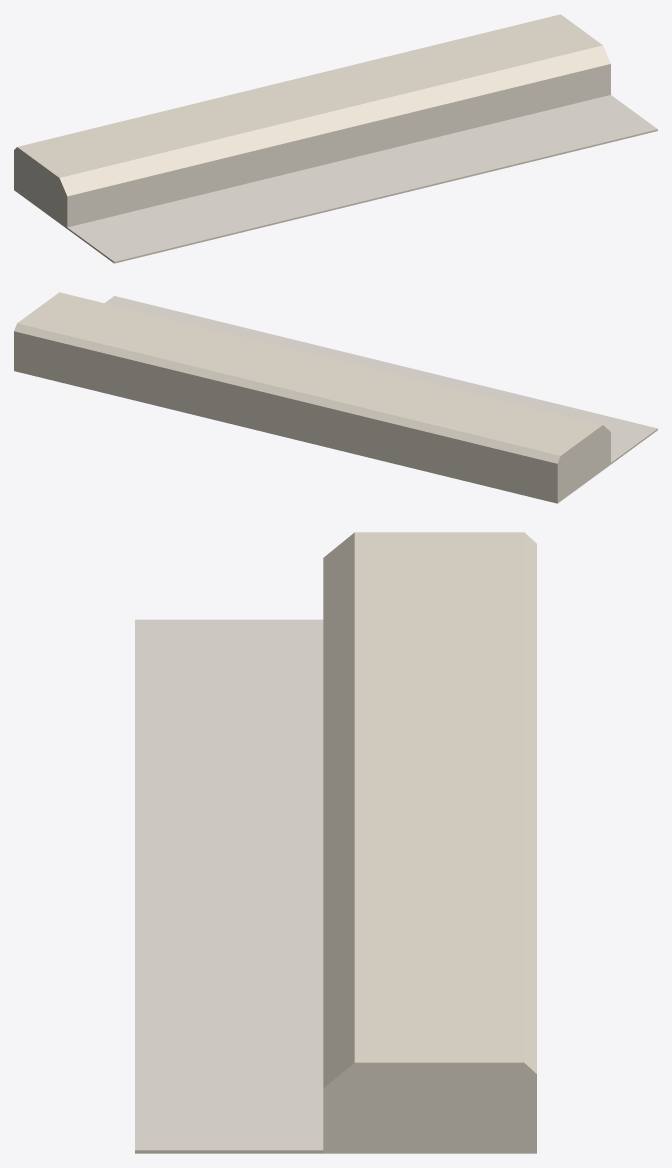
The model's file is street_kerb.glb.
3 views of the same model, one above another, from view 1: azimuth 30°, elevation 25°; view 2: azimuth 150°, elevation 25°; view 3: azimuth 270°, elevation 25° (orthographic). The views are drawn at different scales.
Visible parts, largest first — view 1: kerb; view 2: kerb; view 3: kerb.
Boxes of the visible parts, x1,y1,x2,y2 form: kerb: (14, 14, 657, 263); kerb: (14, 292, 657, 503); kerb: (135, 532, 536, 1153).
Bounding box in the file's own units: 2 × 0.16 × 0.64.
